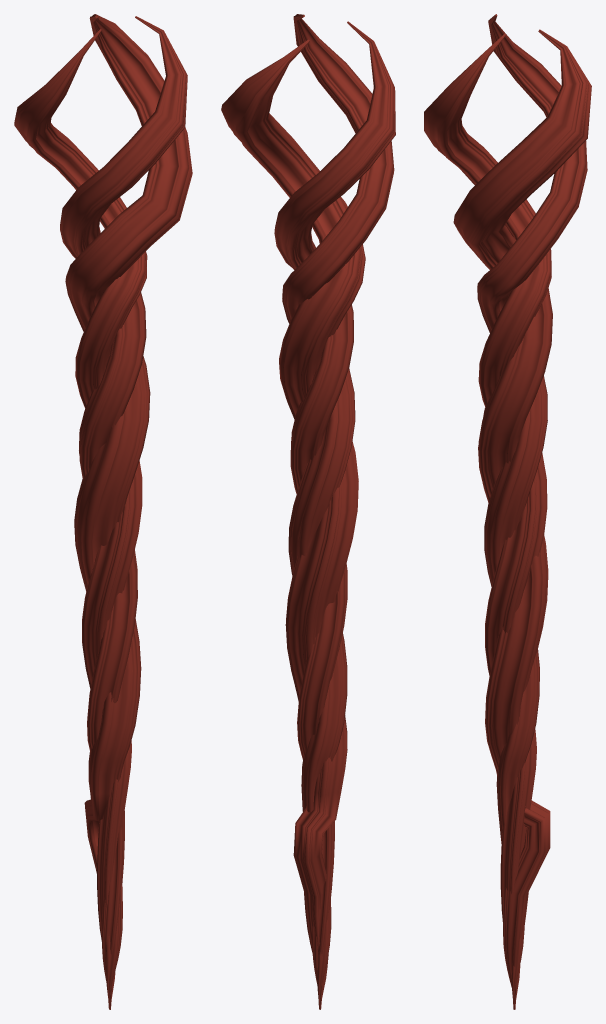
Rendered from HolzBannstab.fbx.
3 renders of one model, left to right at view 1: azimuth 30°, elevation 25°; view 2: azimuth 150°, elevation 25°; view 3: azimuth 270°, elevation 25°, orthographic.
Visible parts, largest first — view 1: Spiral.002, Spiral.003, Spiral.001; view 2: Spiral.002, Spiral.003, Spiral.001; view 3: Spiral.002, Spiral.003, Spiral.001.
Part boxes in pixels (box(x1,y1,x2,y2)): Spiral.002: box(65, 14, 192, 1009); Spiral.003: box(60, 16, 187, 980); Spiral.001: box(14, 29, 147, 1009); Spiral.002: box(221, 39, 365, 1009); Spiral.003: box(282, 14, 394, 1009); Spiral.001: box(274, 21, 395, 983); Spiral.002: box(453, 29, 591, 1008); Spiral.003: box(424, 33, 551, 1009); Spiral.001: box(477, 14, 587, 1009).
Size of the model in its own units: 125 by 738 by 114.
